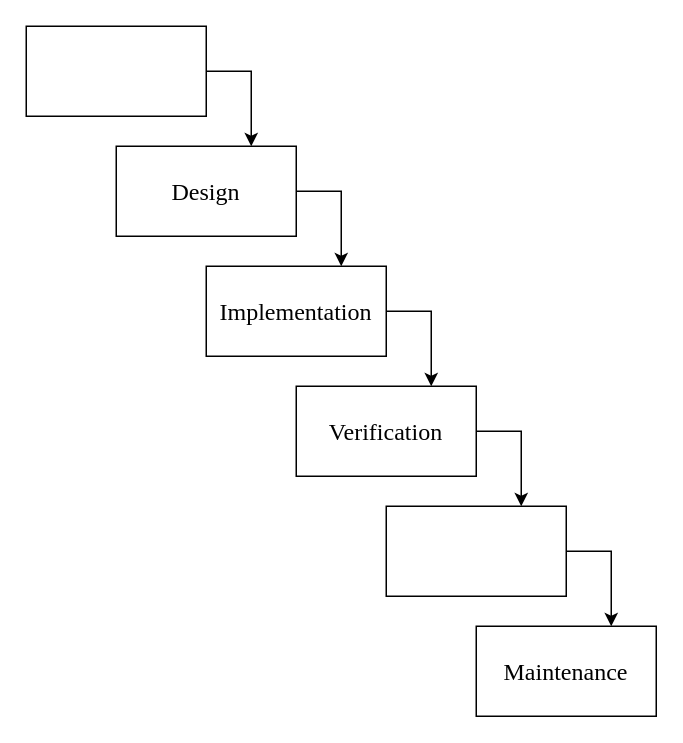
The diagram is 683 pixels wide and 743 high, and some of its shapes have lost their labels. Here are the shapes that lost their labels. From the top down, the centre of each, then its label:
the point at 115,70: Requirement Analysis
the point at 475,550: Delpoyment
